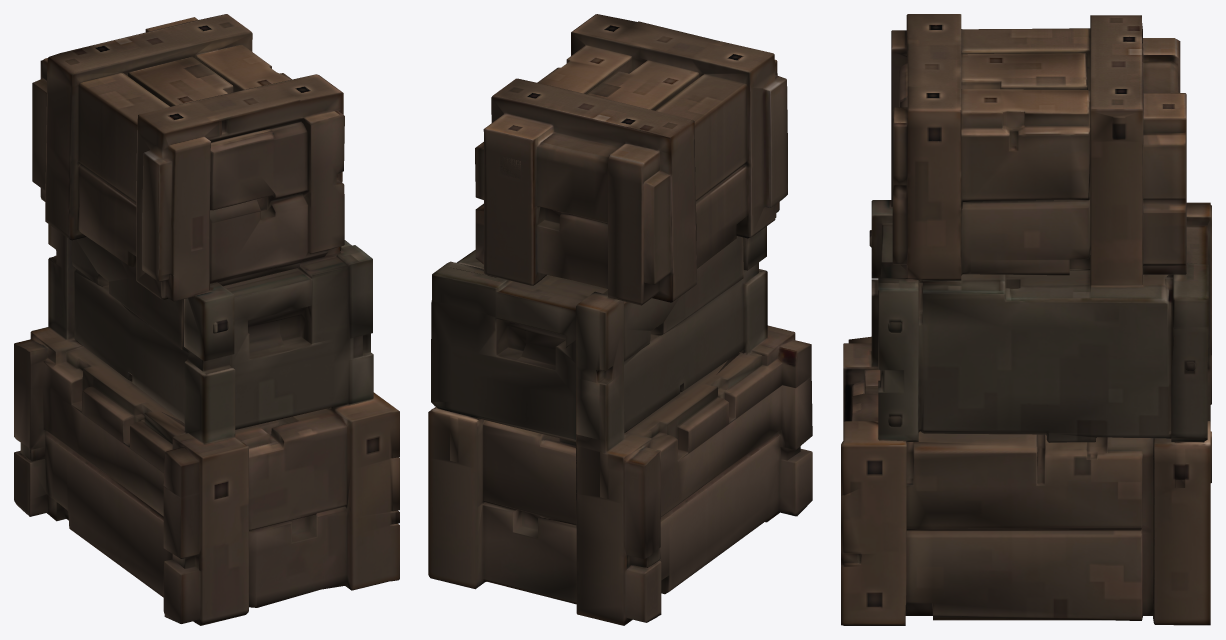
File: crate_stack.glb
3 renders of one model, left to right at view 1: azimuth 30°, elevation 25°; view 2: azimuth 150°, elevation 25°; view 3: azimuth 270°, elevation 25°, orthographic. The views are drawn at different scales.
Parts seen in each view (by area): view 1: tripo_node_7e1b30df-94b7-44f6-931c-9642de8a6f28; view 2: tripo_node_7e1b30df-94b7-44f6-931c-9642de8a6f28; view 3: tripo_node_7e1b30df-94b7-44f6-931c-9642de8a6f28.
Part boxes in pixels (x1,y1,x2,y2): tripo_node_7e1b30df-94b7-44f6-931c-9642de8a6f28: (14, 14, 399, 625); tripo_node_7e1b30df-94b7-44f6-931c-9642de8a6f28: (428, 14, 812, 625); tripo_node_7e1b30df-94b7-44f6-931c-9642de8a6f28: (841, 14, 1211, 625).
Size of the model in its own units: 0.4814 by 1 by 0.6634.
1 material, 1 textured.
